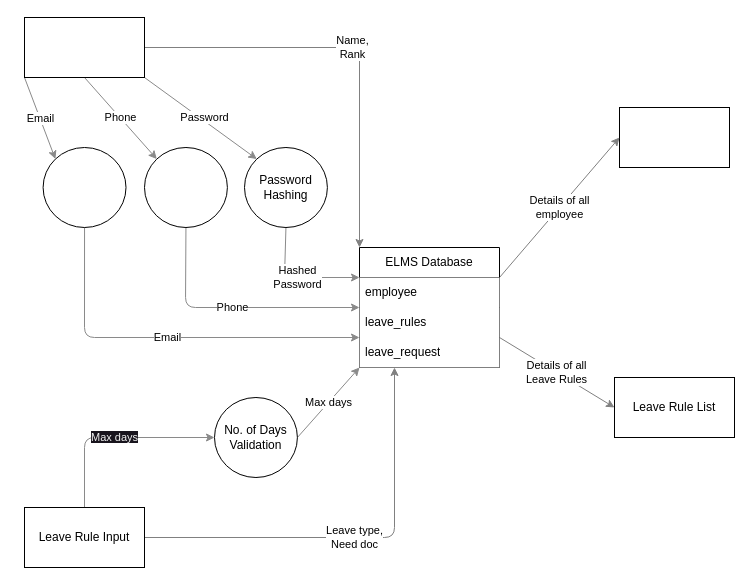
Some shapes in this 752 by 585 pixel diagram are drawn without their labels. Each missing label, with the centre of its shape:
"Email Validation" belongs at point 84,187.
"Employee Input" belongs at point 84,47.
"Employee List" belongs at point 674,137.
"Phone Validation" belongs at point 185,187.
